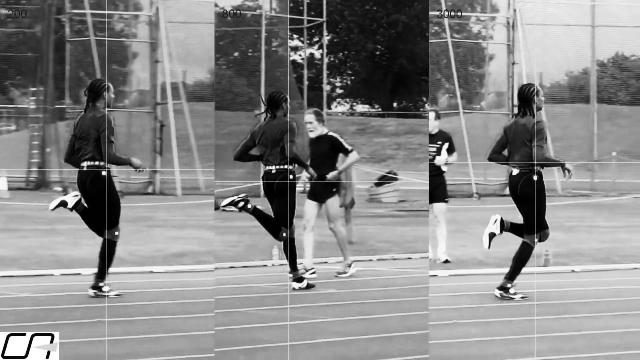berlari: (473, 66, 579, 318), (40, 63, 148, 309), (212, 77, 314, 300)
